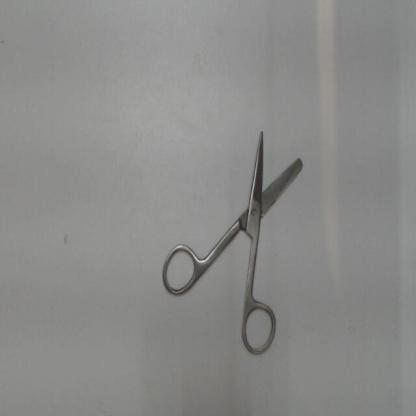Dressing Scissors: (150, 108, 318, 363)
